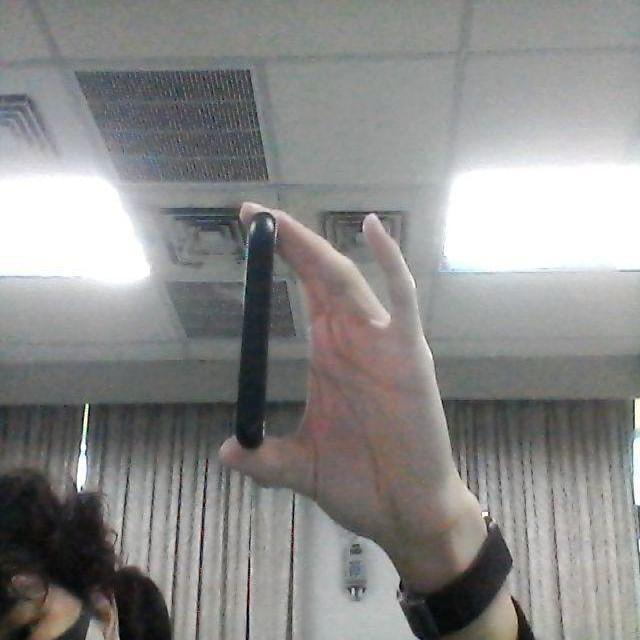phone: (233, 203, 278, 456)
